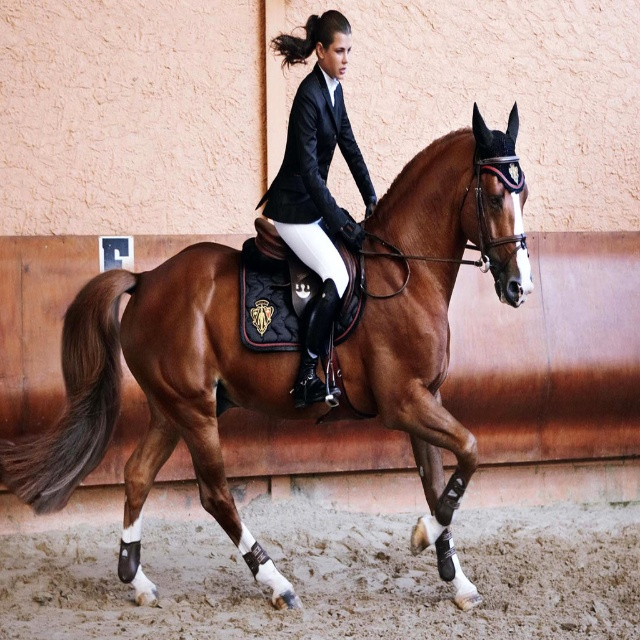Horse: (0, 100, 534, 613)
